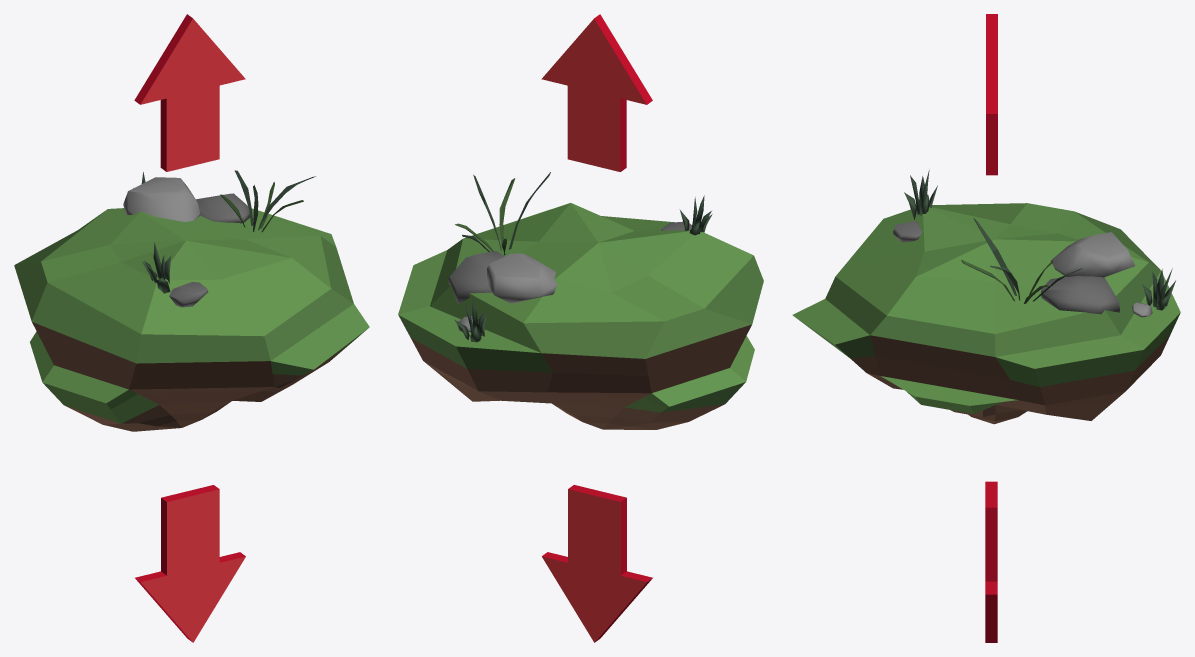
The model's file is Vertical_Platform_Pirates_Alt.glb.
The picture shows the model from 3 angles, left to right: view 1: azimuth 30°, elevation 25°; view 2: azimuth 150°, elevation 25°; view 3: azimuth 270°, elevation 25°; orthographic projection.
Parts seen in each view (by area): view 1: Pirate_Platform_02, Plane.001, Plane; view 2: Pirate_Platform_02, Plane.001, Plane; view 3: Pirate_Platform_02, Plane, Plane.001.
Part boxes in pixels (x1,y1,x2,y2): Pirate_Platform_02: (14, 170, 369, 431); Plane.001: (134, 14, 245, 171); Plane: (135, 485, 245, 642); Pirate_Platform_02: (398, 172, 763, 429); Plane.001: (541, 14, 652, 171); Plane: (542, 485, 652, 642); Pirate_Platform_02: (792, 170, 1180, 424); Plane: (985, 481, 997, 642); Plane.001: (986, 14, 997, 175).
Bounding box in the file's own units: 2.1 × 3.92 × 2.19.
2 materials, 2 textured.
